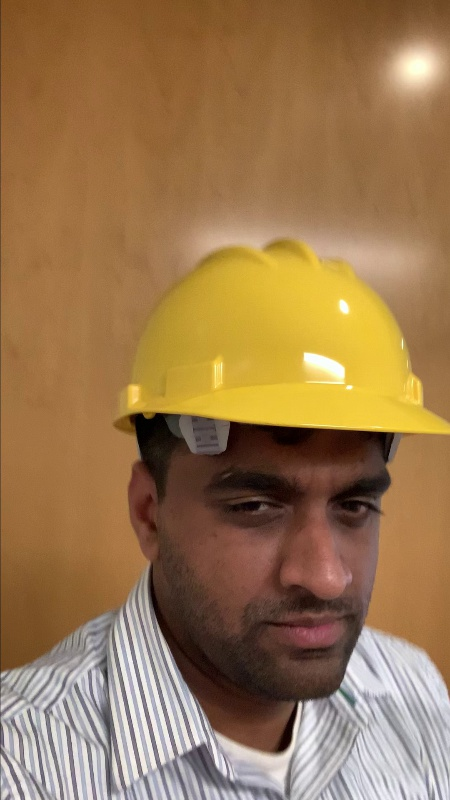helmet: (113, 233, 436, 429)
